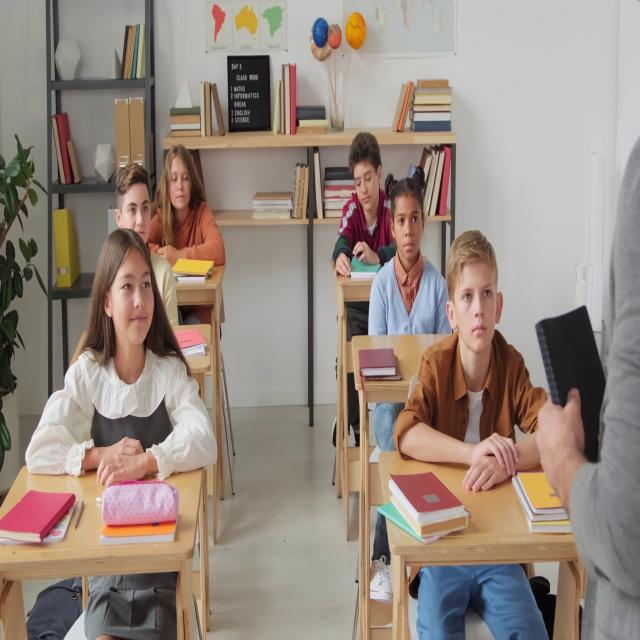listening: (392, 237, 560, 635), (27, 233, 223, 475), (366, 172, 450, 340), (150, 128, 232, 270), (114, 163, 182, 322)
reading: (332, 132, 394, 280)
